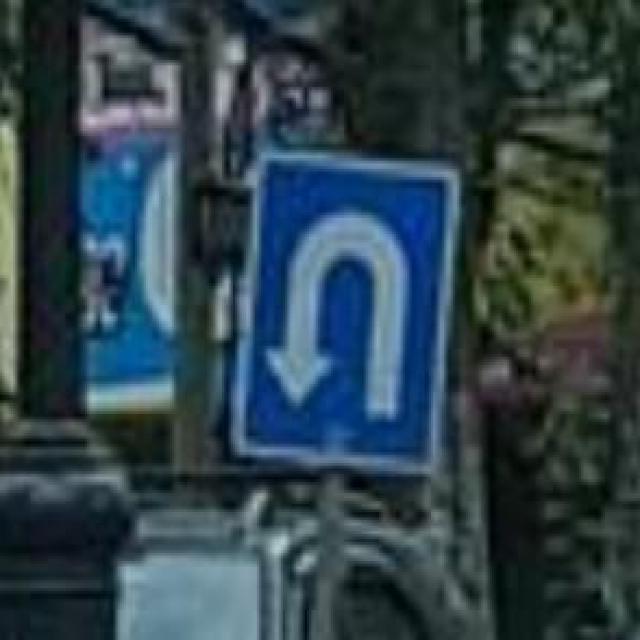U-turn: (257, 158, 436, 469)
